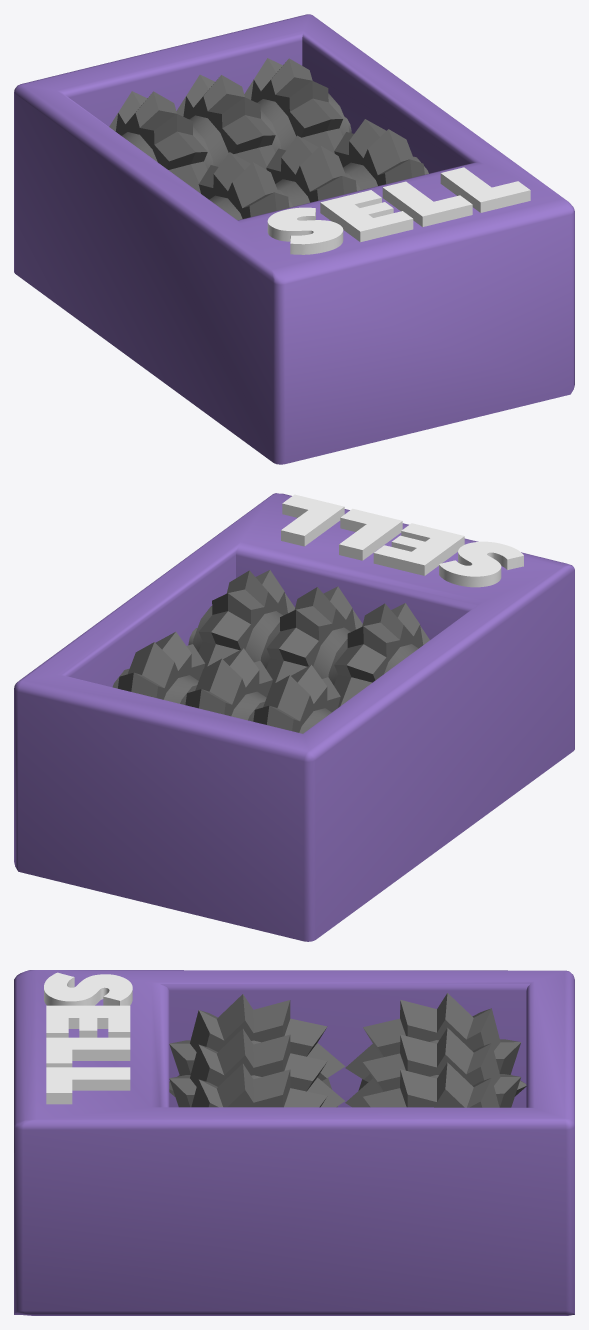
File: Grinder.fbx
The picture shows the model from 3 angles, top to bottom: view 1: azimuth 30°, elevation 25°; view 2: azimuth 150°, elevation 25°; view 3: azimuth 270°, elevation 25°; orthographic projection. The views are drawn at different scales.
Parts seen in each view (by area): view 1: Tube, Left, Right, E, S, L, L_2; view 2: Tube, Right, Left, E, S, L, L_2; view 3: Tube, Left, Right, E, S, L_2, L.
Part boxes in pixels (x1,y1,x2,y2): Tube: (14, 14, 574, 464); Left: (109, 58, 351, 193); Right: (198, 119, 428, 220); E: (320, 190, 413, 242); S: (267, 207, 343, 254); L: (382, 181, 472, 226); L_2: (440, 167, 530, 212); Tube: (14, 493, 574, 941); Right: (188, 570, 429, 707); Left: (112, 632, 340, 733); E: (373, 523, 464, 575); S: (439, 541, 523, 587); L: (339, 508, 402, 560); L_2: (281, 494, 344, 546); Tube: (14, 970, 574, 1315); Left: (345, 993, 526, 1107); Right: (169, 994, 344, 1107); E: (46, 1005, 130, 1037); S: (44, 972, 132, 1005); L_2: (46, 1067, 130, 1104); L: (46, 1037, 130, 1067).
Size of the model in its own units: 580 by 376 by 893.
